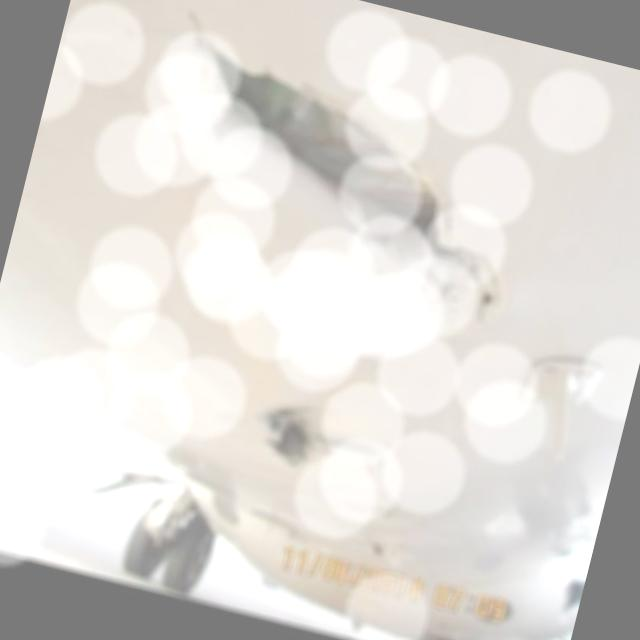crack: (132, 4, 558, 329)
